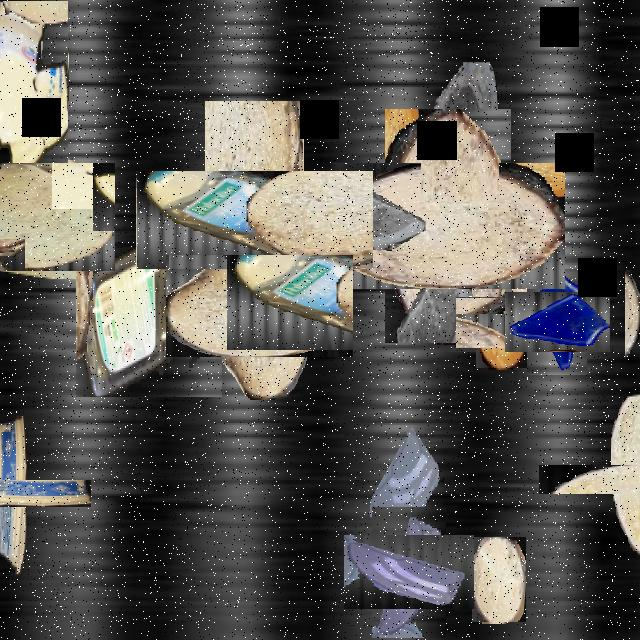glass: (421, 62, 499, 201), (358, 521, 460, 624), (367, 423, 439, 551), (0, 54, 46, 220), (516, 280, 598, 364)
plastic: (170, 136, 338, 304), (76, 247, 222, 397), (0, 2, 68, 180), (0, 448, 59, 539)
wood: (358, 136, 538, 316), (186, 233, 332, 379), (0, 159, 111, 274), (574, 429, 640, 530), (466, 286, 538, 358), (472, 537, 526, 622), (625, 265, 640, 364)
